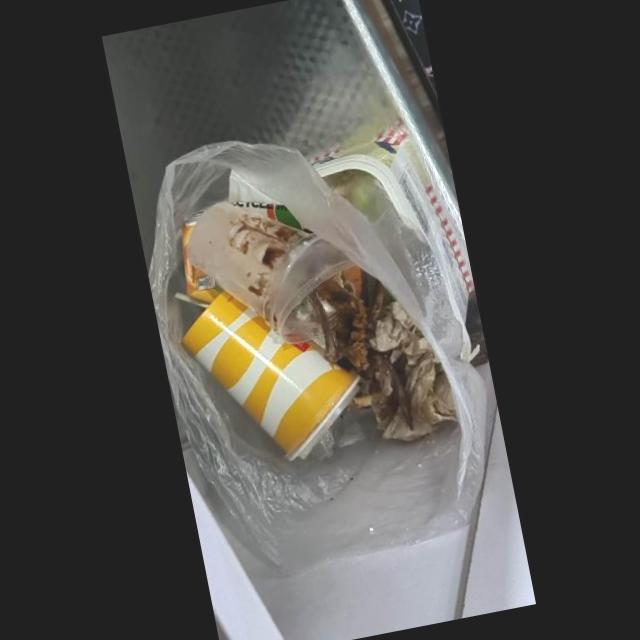carton: (181, 289, 360, 461)
hop_nhua: (187, 201, 355, 343)
thuc_an_thua: (314, 270, 458, 441)
